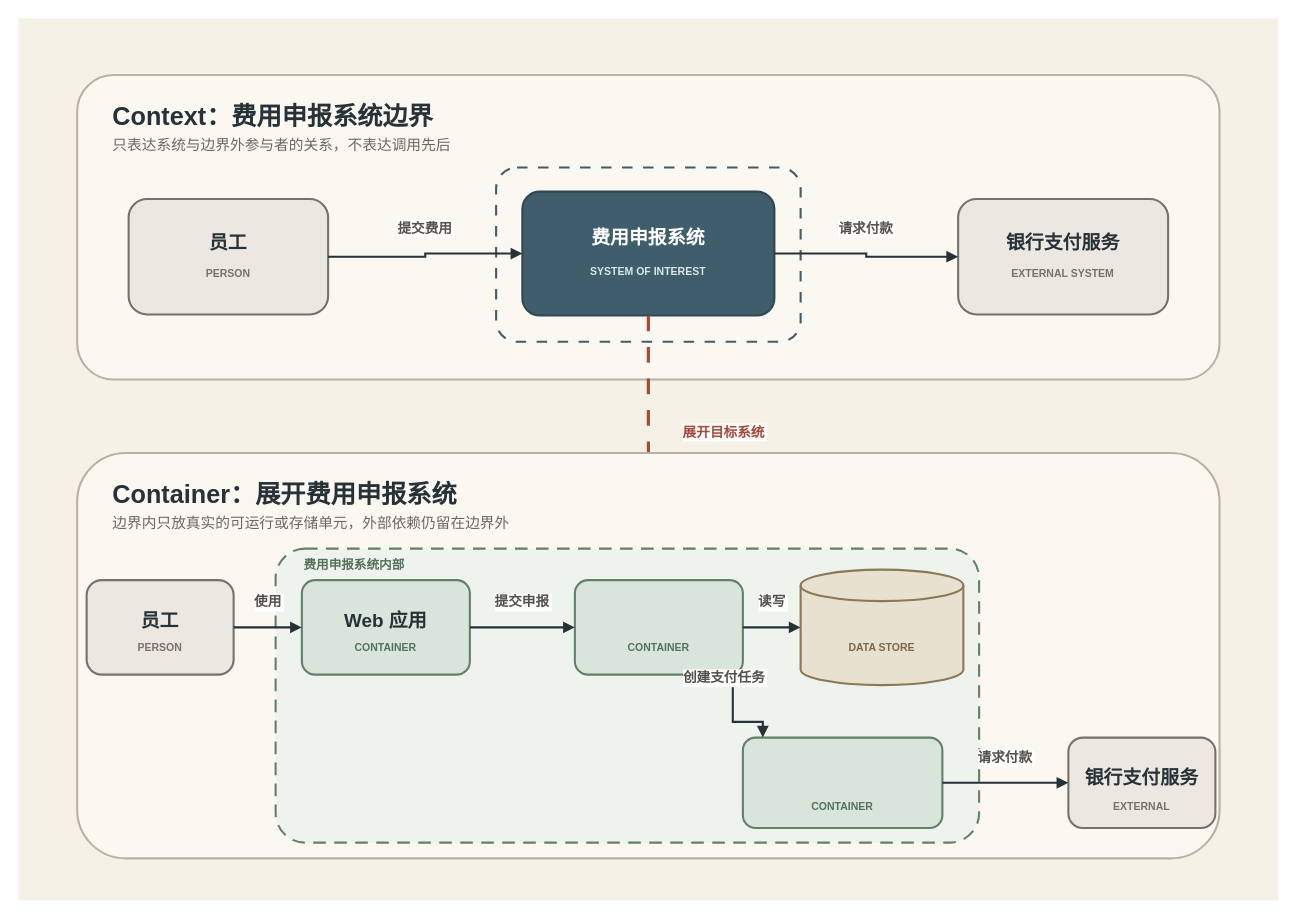
The diagram is 1296 pixels wide and 918 high, and some of its shapes have lost their labels. The shapes that lost their labels are listed below. From the top down, each one's box as (x1, y1, x2, y2) in pixels, then its label:
(573, 579, 743, 675): 申报 API
(799, 568, 964, 686): 申报数据库
(741, 736, 943, 828): 支付任务执行器
